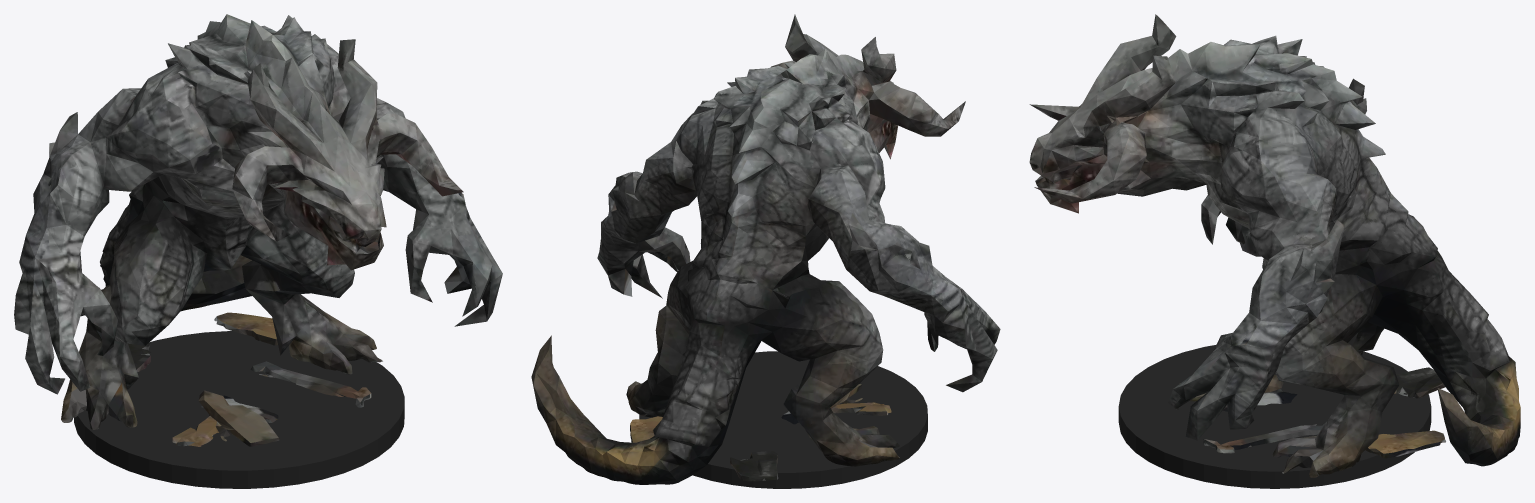
The model's file is deathclaw.glb.
3 renders of one model, left to right at view 1: azimuth 30°, elevation 25°; view 2: azimuth 150°, elevation 25°; view 3: azimuth 270°, elevation 25°, orthographic. The views are drawn at different scales.
Visible parts, largest first — view 1: figure, base; view 2: figure, base; view 3: figure, base.
Boxes of the visible parts, <box> form: figure: <box>14,14,502,446</box>; base: <box>74,331,404,488</box>; figure: <box>531,14,1000,484</box>; base: <box>639,351,927,488</box>; figure: <box>1029,14,1520,477</box>; base: <box>1118,345,1431,488</box>.
Bounding box in the file's own units: 3.11 × 2.72 × 3.1.
2 materials, 1 textured.
